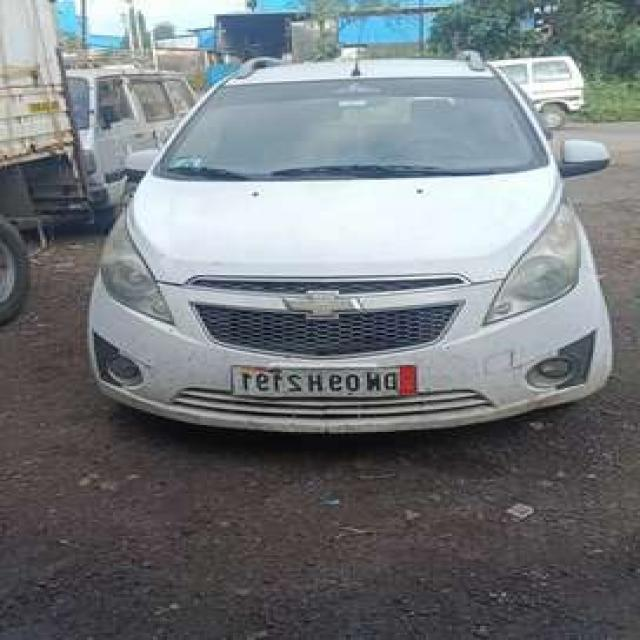license_plate: (230, 362, 418, 399)
